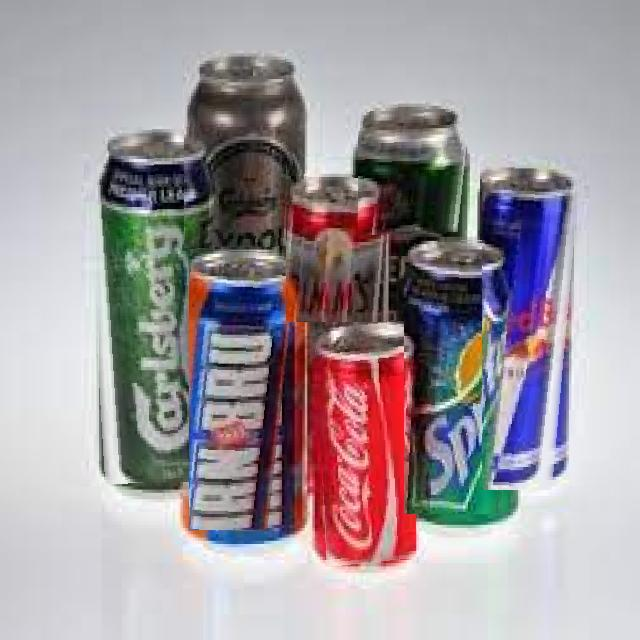Cans: (84, 126, 215, 484), (482, 147, 582, 490), (189, 249, 298, 530), (404, 238, 514, 514), (314, 321, 416, 567), (184, 48, 298, 248), (286, 166, 392, 322), (358, 97, 472, 236)
